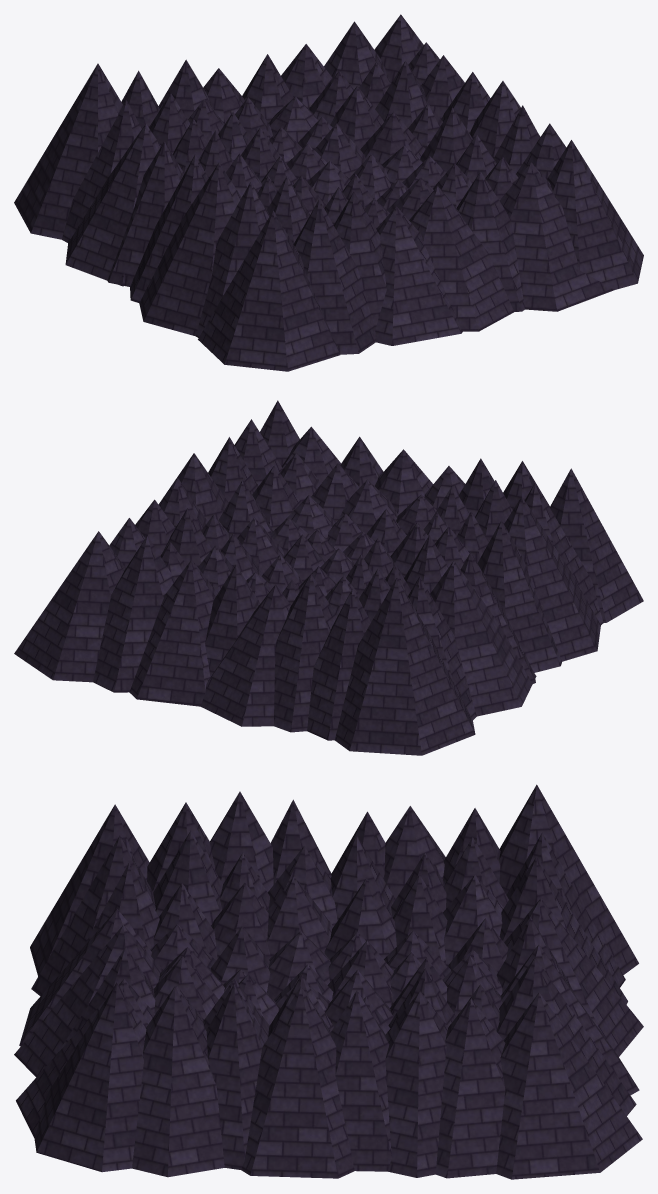
Rendered from chunk_10_24.glb.
The picture shows the model from 3 angles, top to bottom: view 1: azimuth 30°, elevation 25°; view 2: azimuth 150°, elevation 25°; view 3: azimuth 270°, elevation 25°; orthographic projection. The views are drawn at different scales.
Visible parts, largest first — view 1: chunk_10_24; view 2: chunk_10_24; view 3: chunk_10_24.
Part boxes in pixels (box(x1,y1,x2,y2)): chunk_10_24: box(14, 14, 643, 371); chunk_10_24: box(14, 400, 643, 755); chunk_10_24: box(14, 784, 643, 1179).
Bounding box in the file's own units: 21.34 × 6.59 × 21.37.
3 materials, 3 textured.
